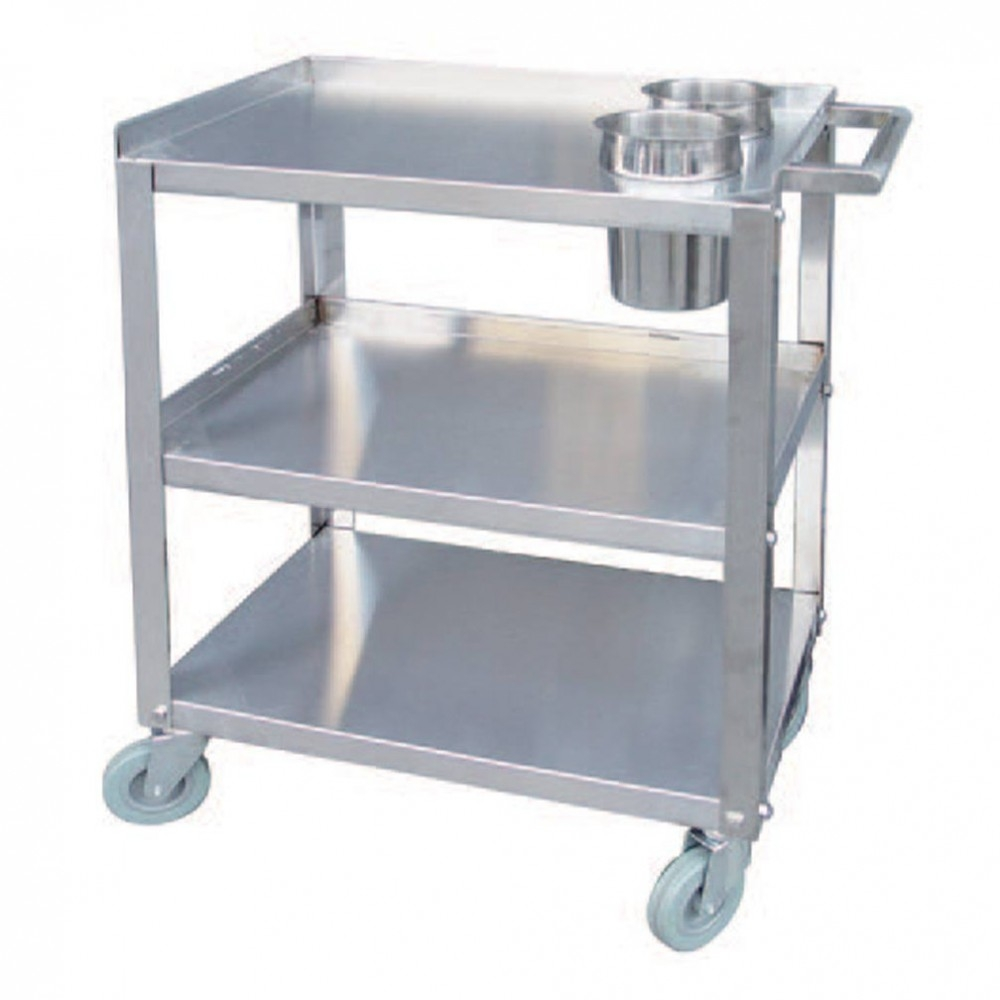Carts: (100, 51, 915, 951)
